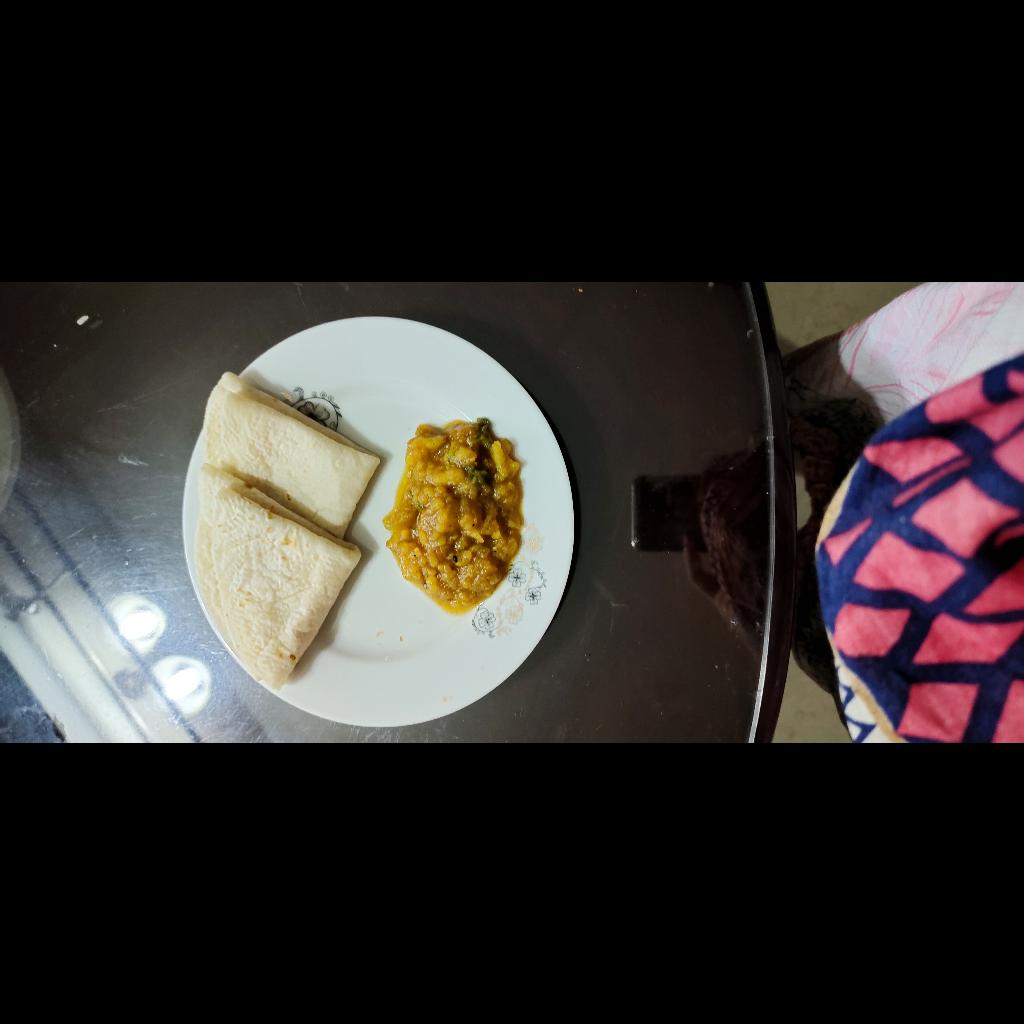daal: (130, 661, 329, 803)
ruti: (57, 473, 373, 669)
